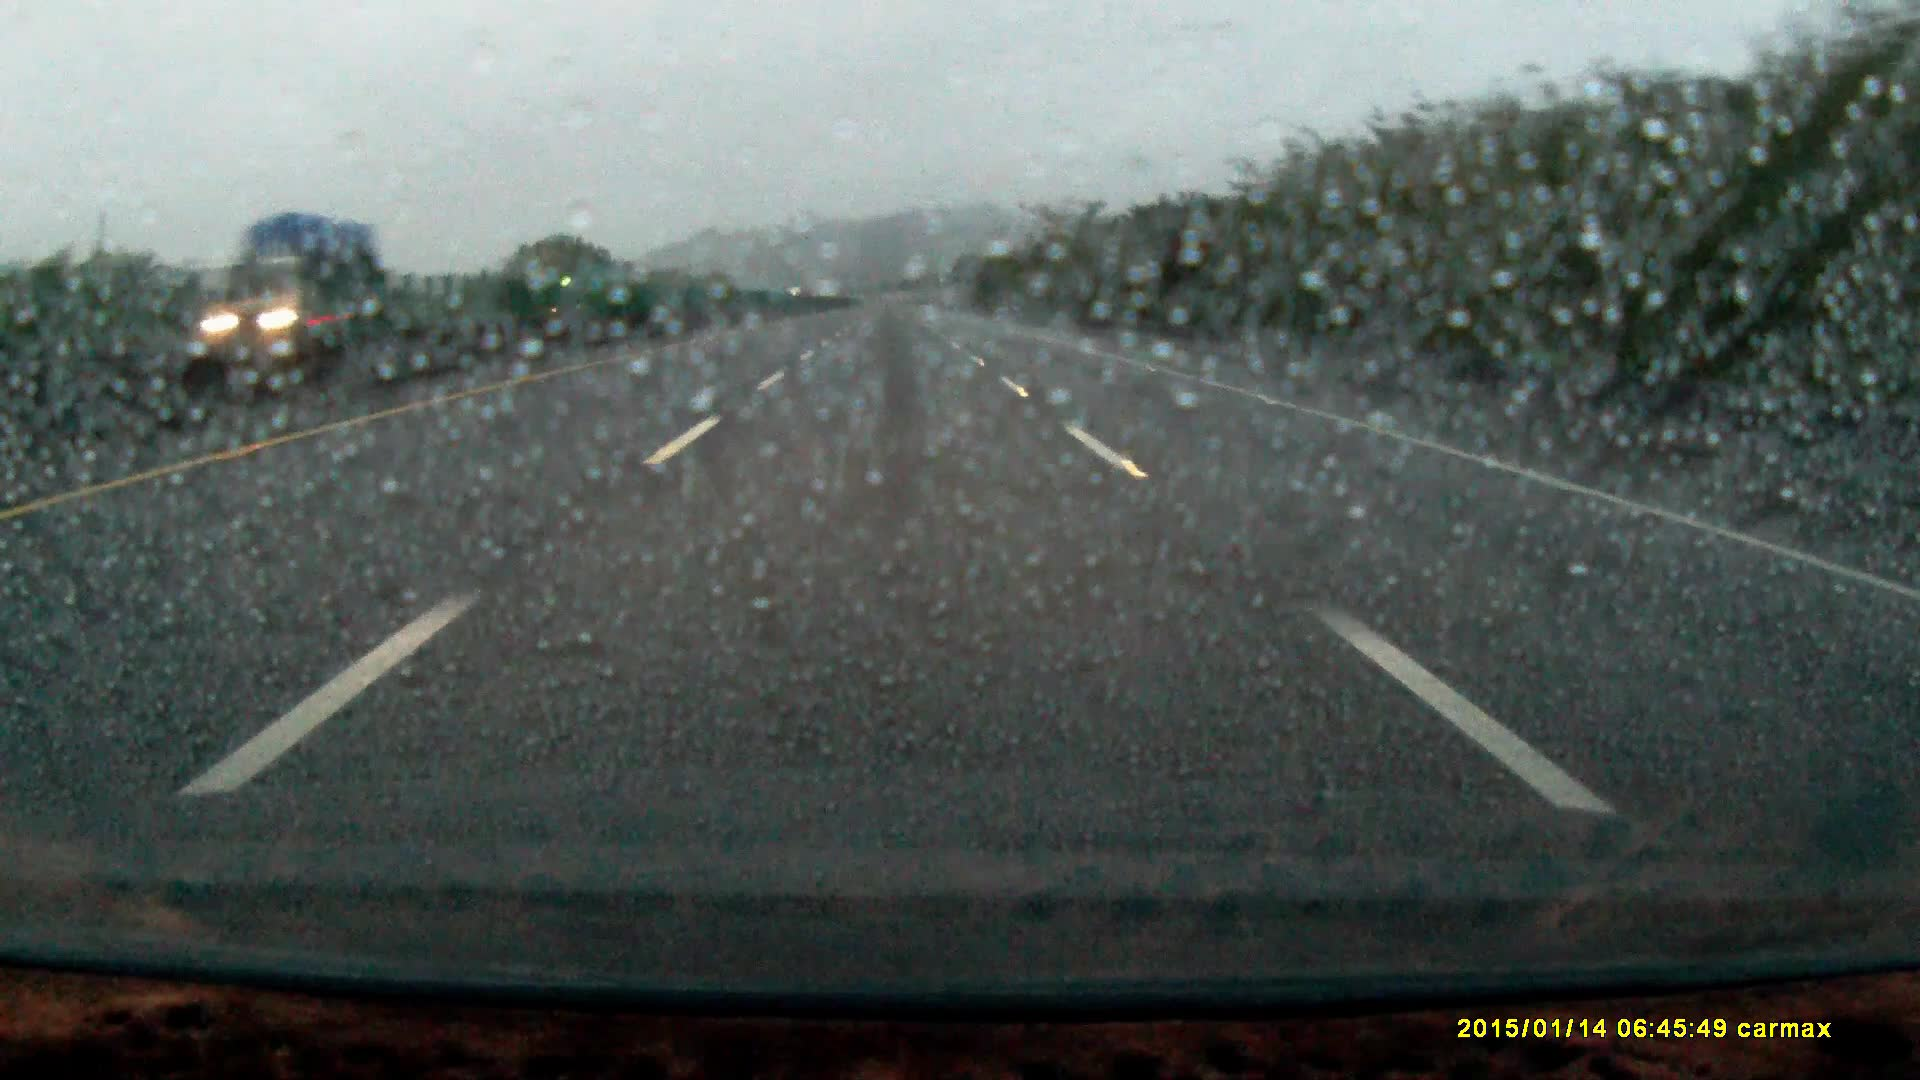vehicle: (207, 215, 363, 349), (543, 265, 629, 328)
